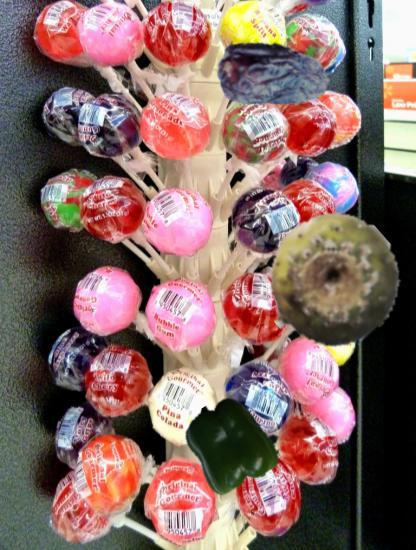Cactus: (262, 212, 401, 351)
Dates: (215, 22, 329, 136)
Pepper: (183, 400, 274, 491)
